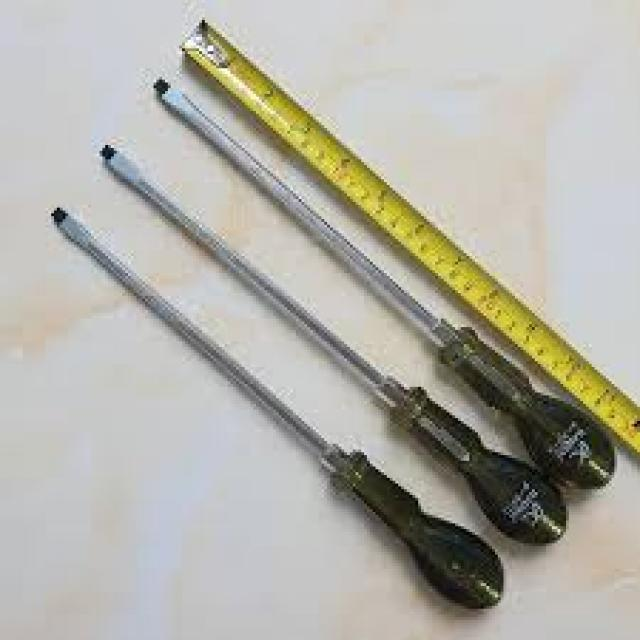screwdriver: (149, 76, 619, 493), (96, 142, 572, 546), (49, 203, 506, 613)
